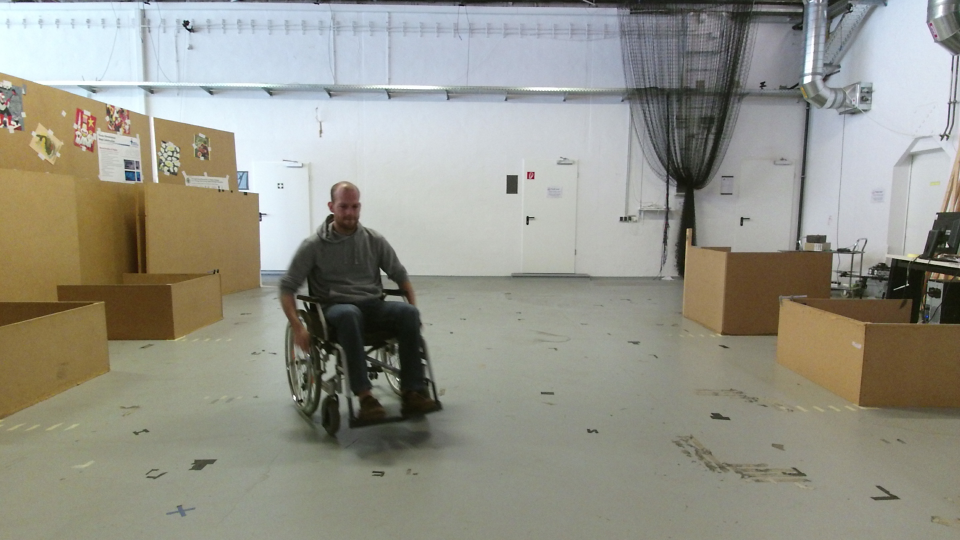wheelchair: (273, 178, 448, 439)
